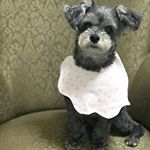puppy: (57, 1, 150, 149)
